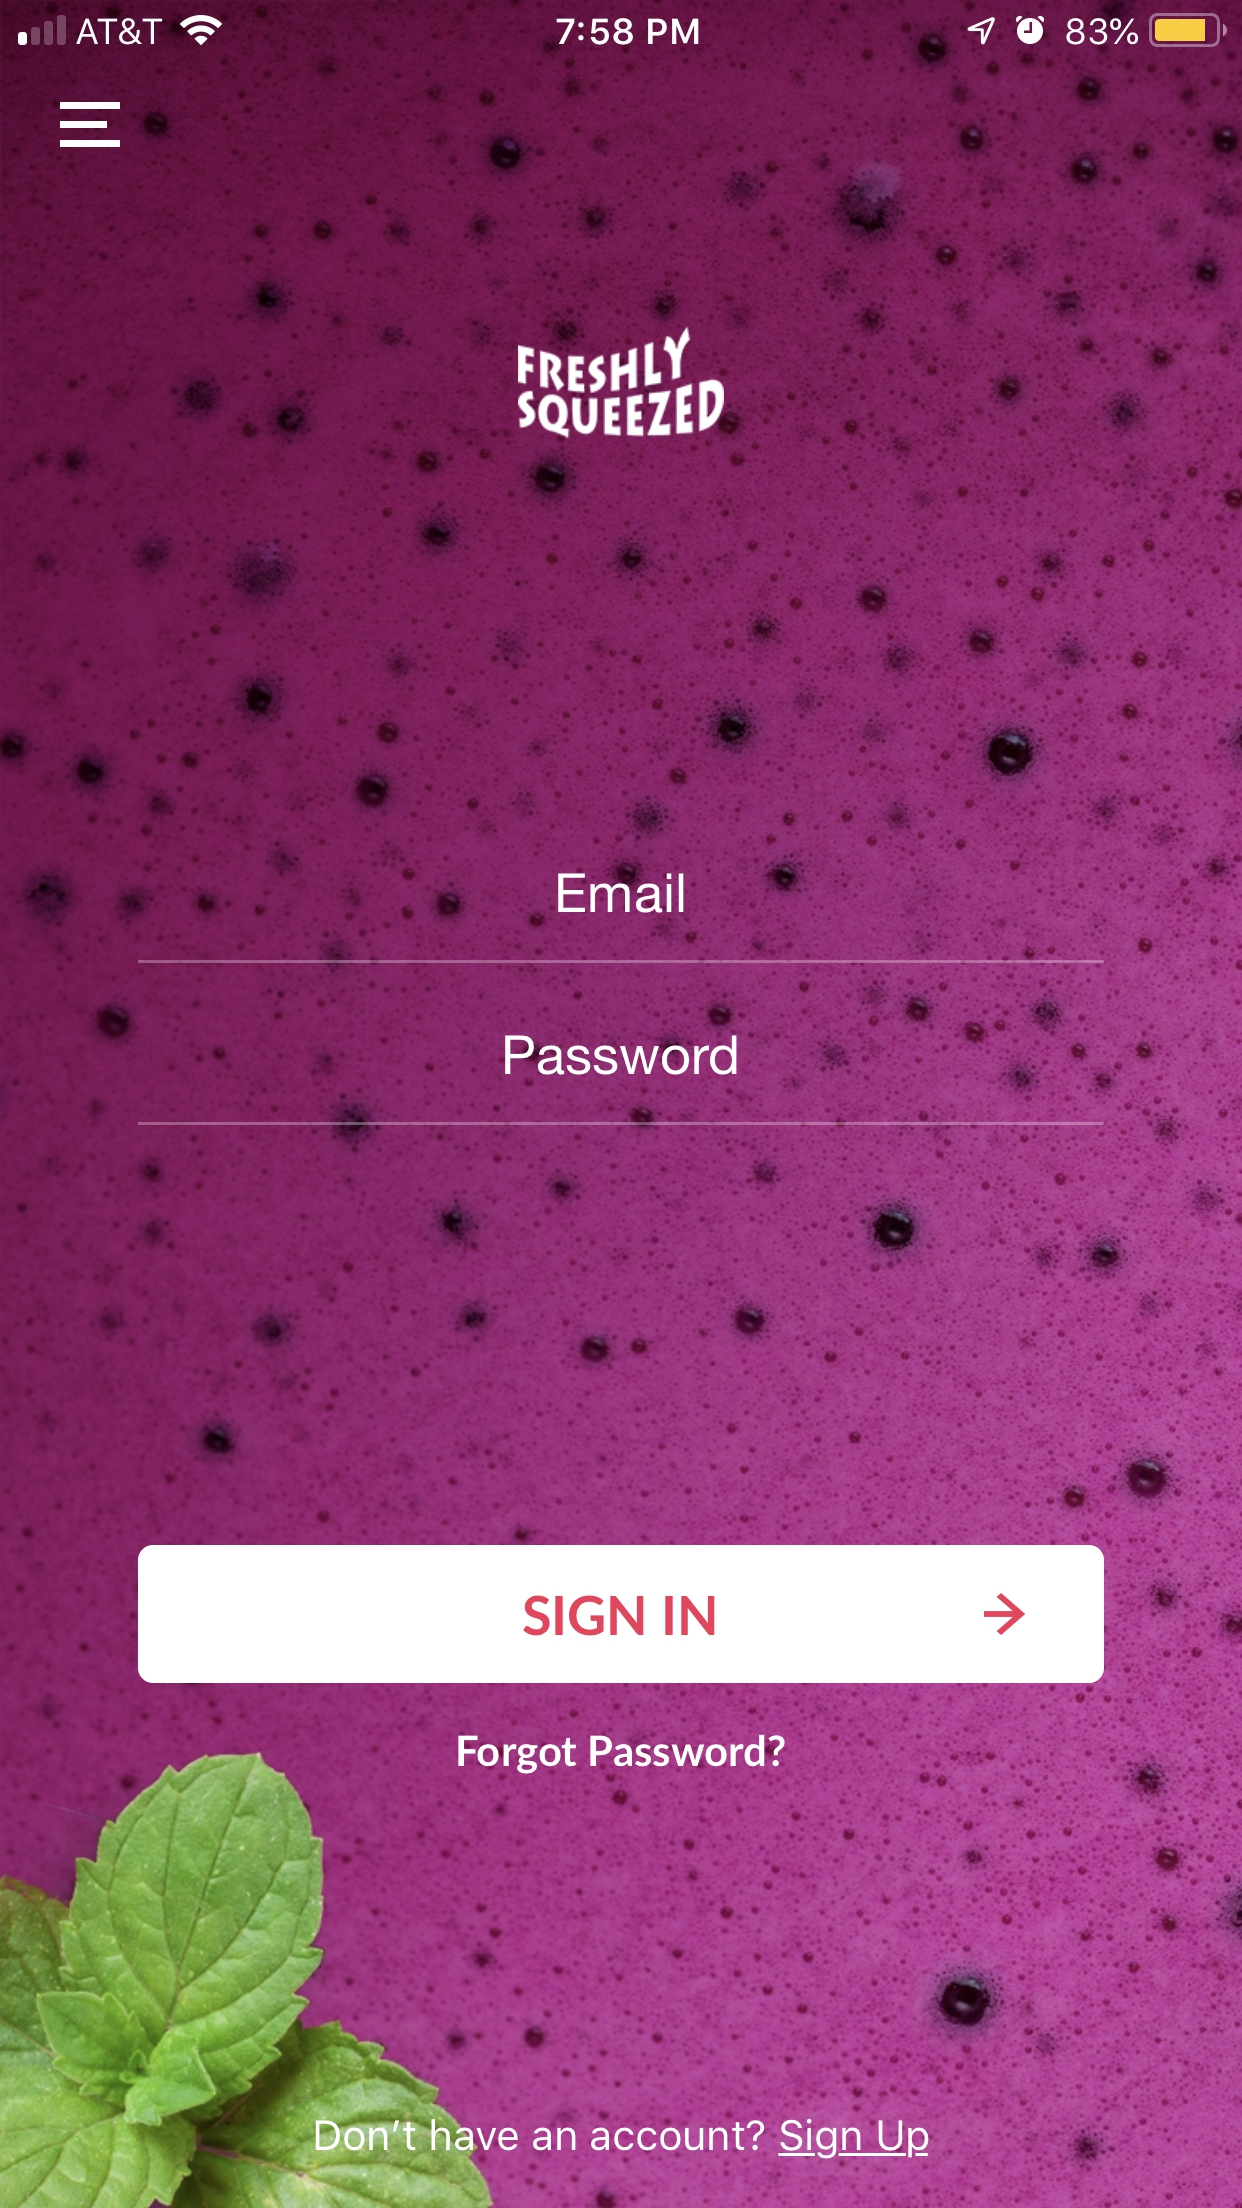BackgroundImage: (2, 49, 1242, 2208)
EditText: (138, 1034, 1106, 1127), (138, 873, 1106, 964)
Icon: (61, 102, 121, 149), (983, 1592, 1027, 1636)
Image: (516, 325, 726, 441)
Text: (315, 2119, 930, 2159), (458, 1733, 786, 1774), (503, 1034, 739, 1078), (557, 873, 685, 914)
TextButton: (138, 1545, 1106, 1683)
UpperTaskBar: (2, 2, 1242, 49)
